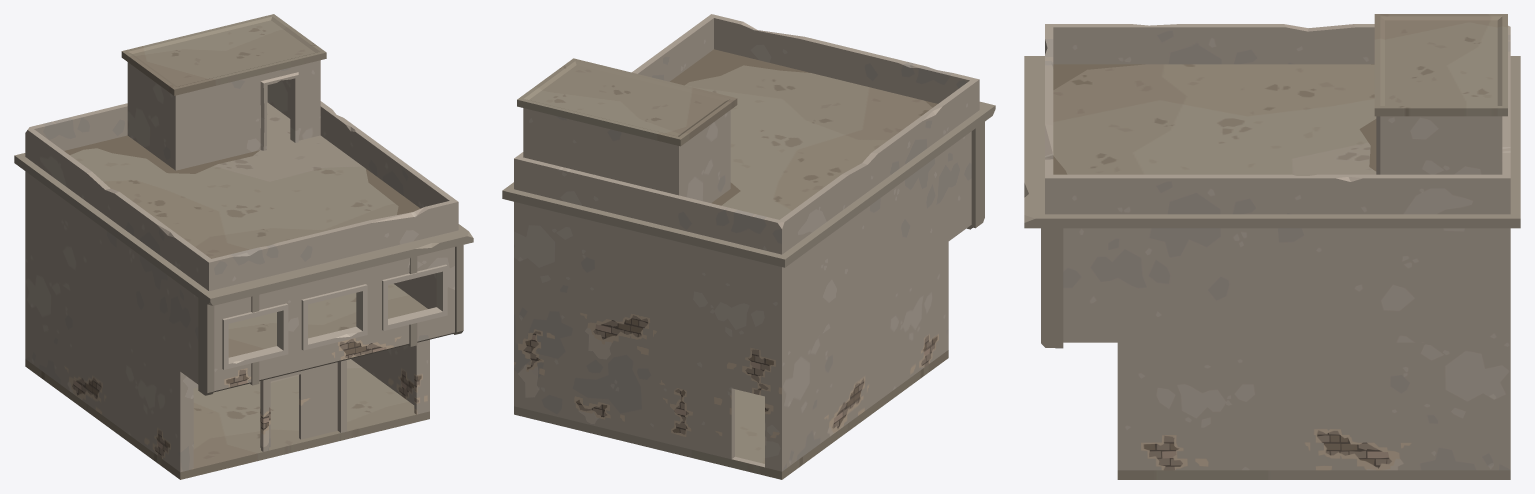
The model's file is SM_Bld_Shop_11.fbx.
3 views of the same model, side by side, from view 1: azimuth 30°, elevation 25°; view 2: azimuth 150°, elevation 25°; view 3: azimuth 270°, elevation 25° (orthographic). The views are drawn at different scales.
Parts seen in each view (by area): view 1: SM_Bld_Shop_11; view 2: SM_Bld_Shop_11; view 3: SM_Bld_Shop_11.
Part boxes in pixels (<box>): SM_Bld_Shop_11: <box>14,14,473,479</box>; SM_Bld_Shop_11: <box>502,14,995,479</box>; SM_Bld_Shop_11: <box>1024,14,1520,479</box>.
Bounding box in the file's own units: 945 × 1005 × 1220.
